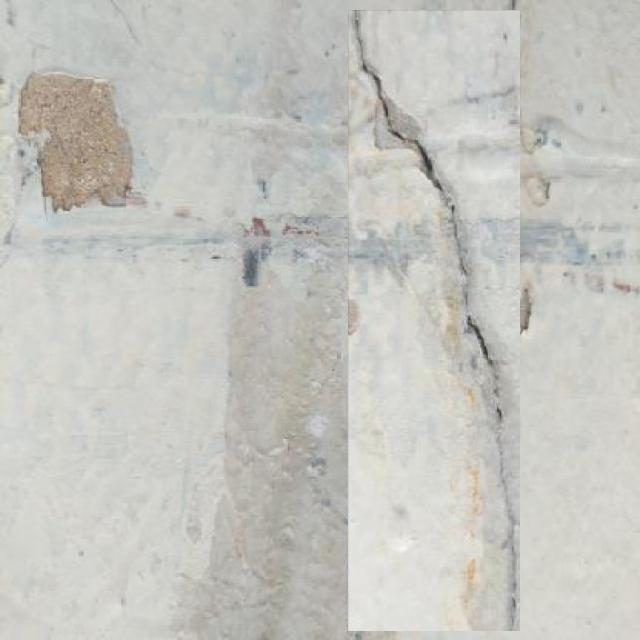Crack: (349, 10, 520, 630)
leak: (17, 70, 134, 213)
